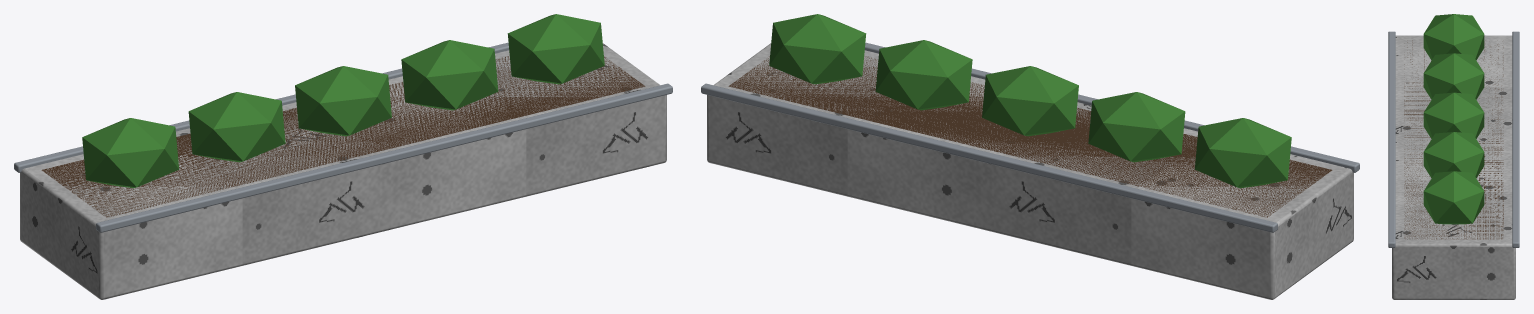
Rendered from ledge.glb.
The picture shows the model from 3 angles, left to right: view 1: azimuth 30°, elevation 25°; view 2: azimuth 150°, elevation 25°; view 3: azimuth 270°, elevation 25°; orthographic projection. The views are drawn at different scales.
Visible parts, largest first — view 1: ledge; view 2: ledge; view 3: ledge.
Boxes of the visible parts, left/top/right/bottom form: ledge: left=14, top=14, right=672, bottom=299; ledge: left=701, top=14, right=1359, bottom=299; ledge: left=1388, top=14, right=1519, bottom=299.
Bounding box in the file's own units: 4.04 × 0.92 × 1.06.
Materials: 4 (1 with a texture image).
